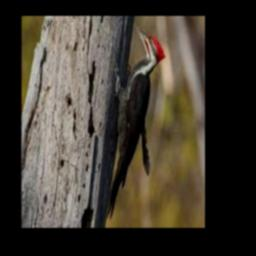Woodpecker: (106, 24, 166, 220)
